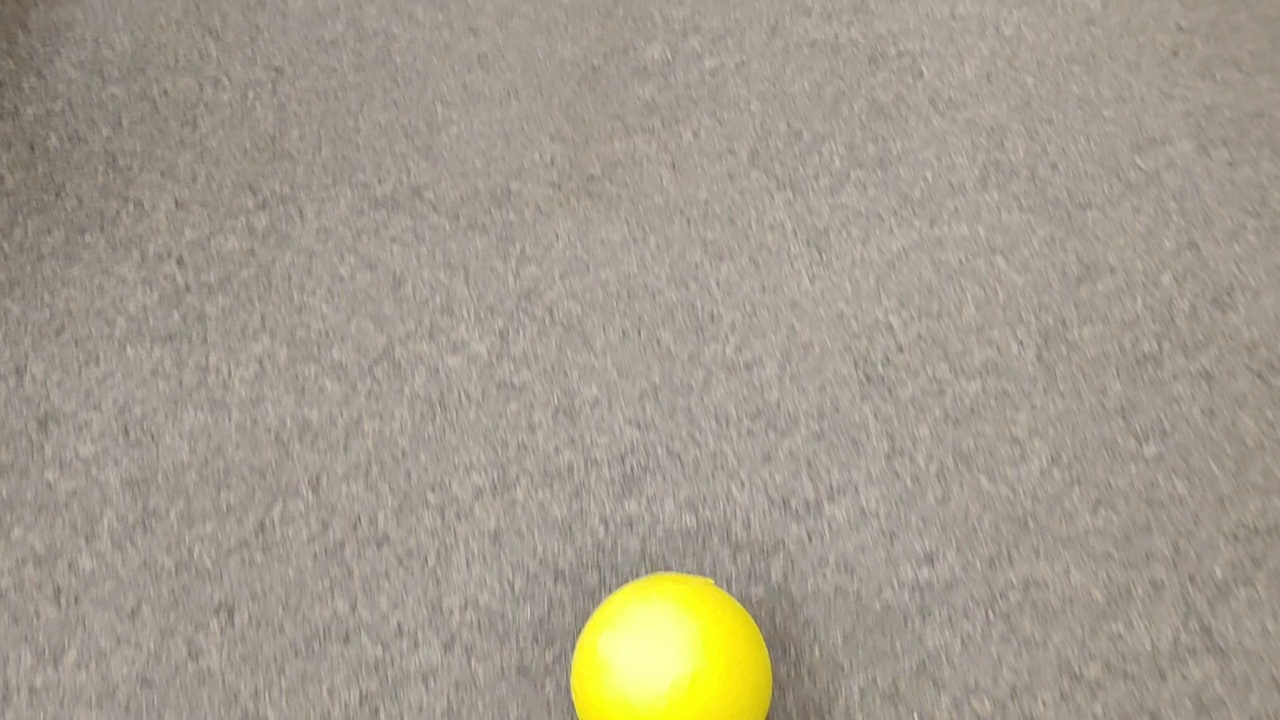Ball: (569, 571, 773, 719)
